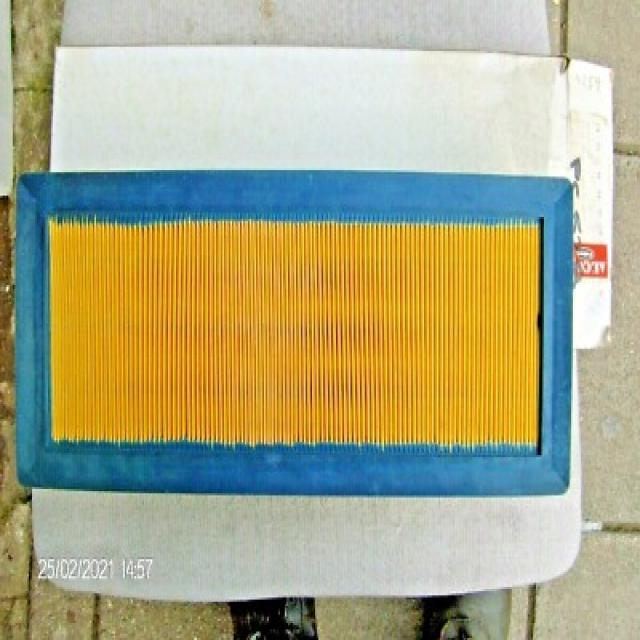air_filter: (13, 172, 580, 494)
